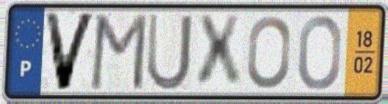M: (87, 11, 150, 93)
O: (296, 13, 344, 92), (245, 14, 293, 92)
U: (145, 11, 195, 93)
V: (41, 10, 100, 94)
X: (194, 12, 244, 92)
